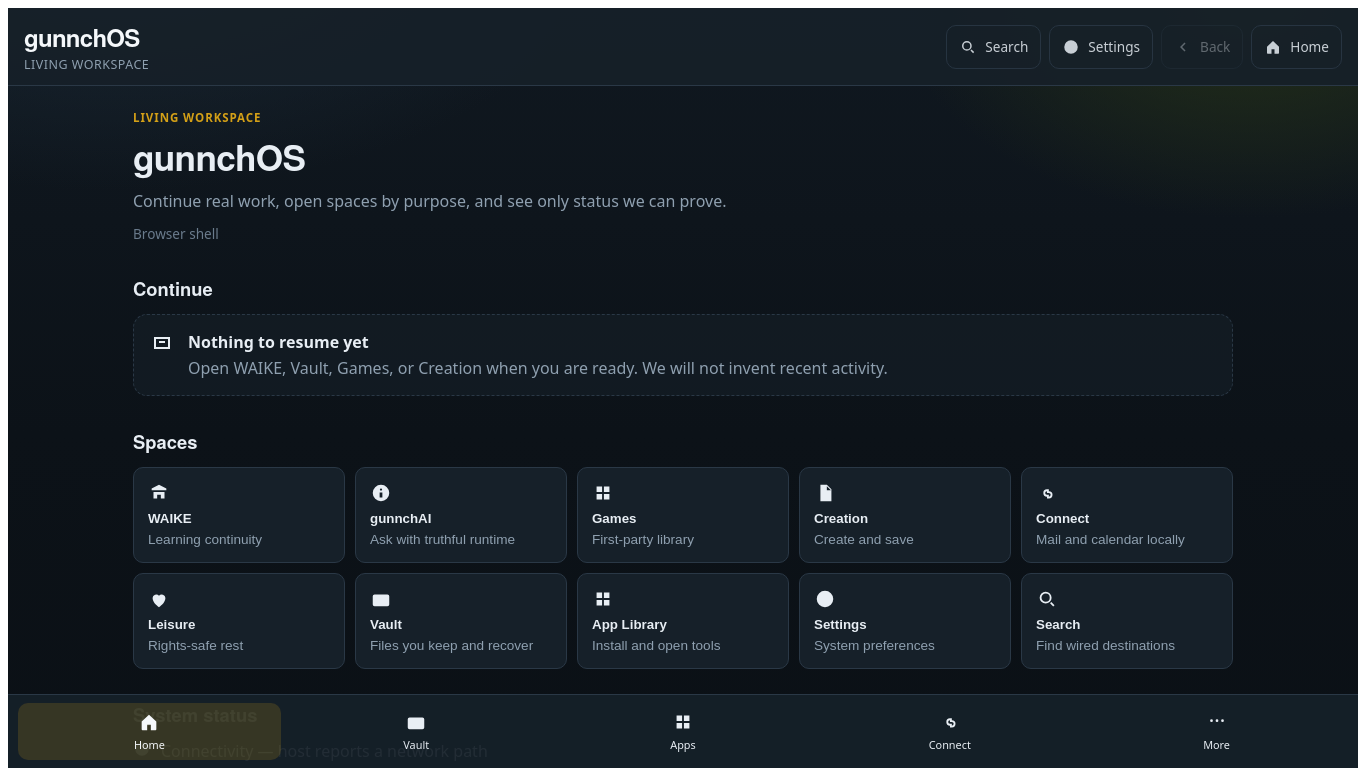
Test: gunnch_shell production authority › navigates Vault and App Library via dock
This screenshot has width=1366, height=768.
Click the button "Vault": (416, 732) left=285, top=703, right=548, bottom=760
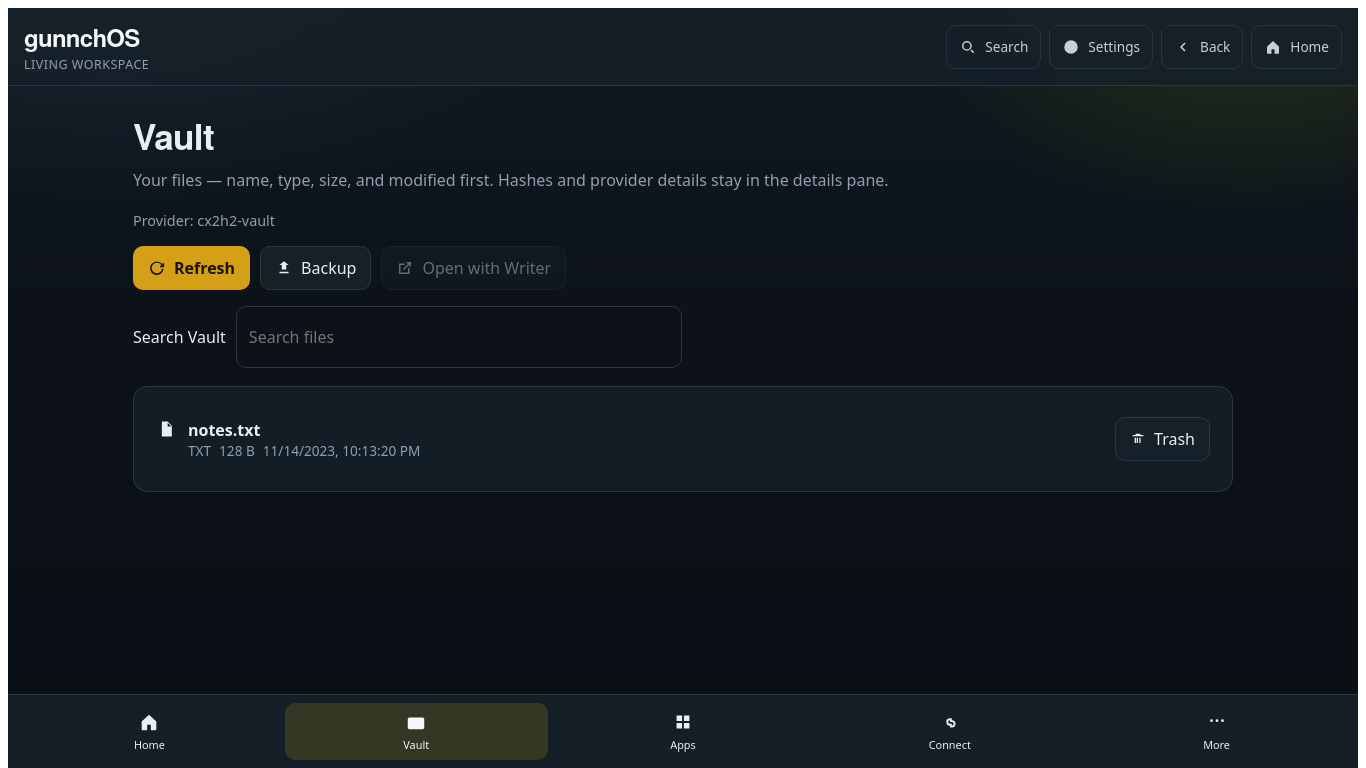
expect the heading "Vault" is shown: met, box left=133, top=110, right=214, bottom=161
expect the text "notes.txt" is shown: met, box left=188, top=418, right=260, bottom=440
Click the button "Apps": (683, 732) left=552, top=703, right=814, bottom=760
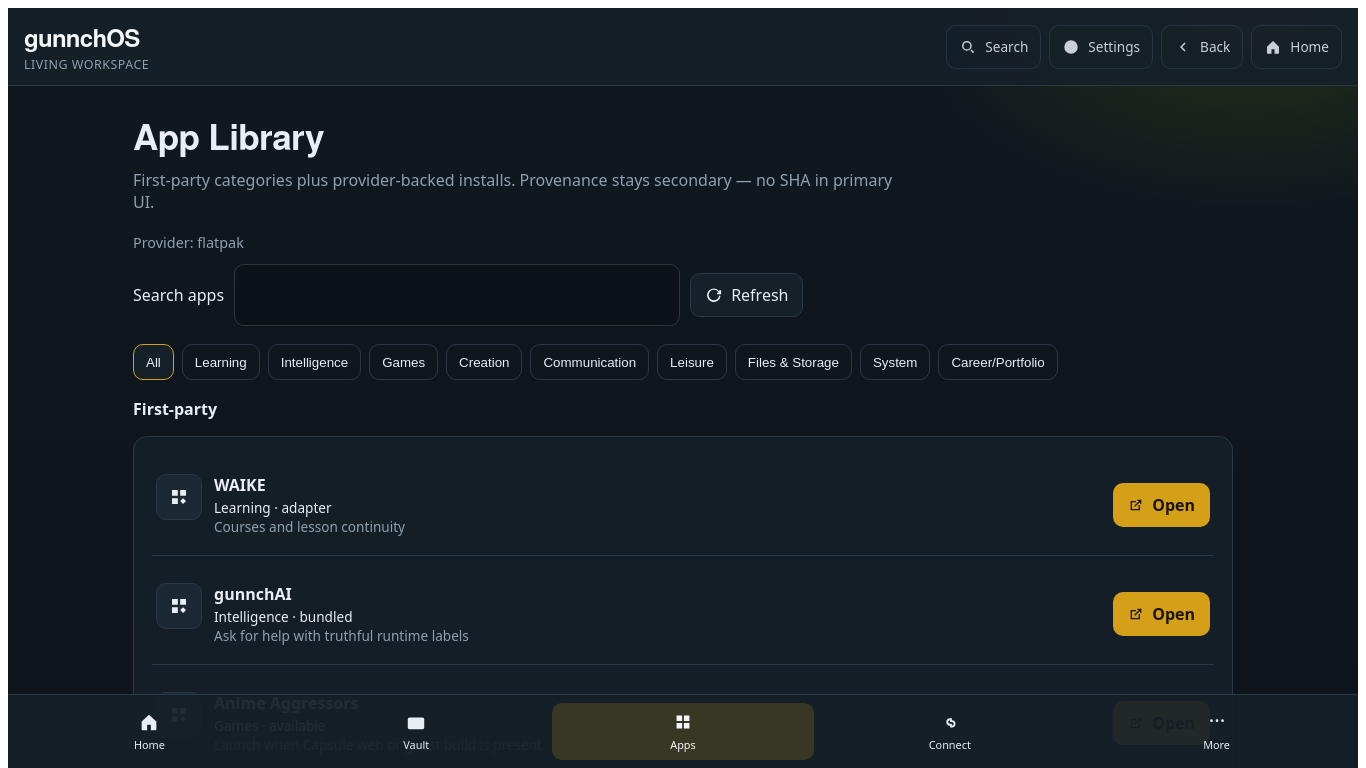
expect the heading "App Library" is shown: met, box left=133, top=110, right=324, bottom=161
expect the text "Provider: flatpak" is shown: met, box left=133, top=233, right=244, bottom=252
expect the element with test id "app-library-categories" is shown: met, box left=133, top=344, right=1058, bottom=380
